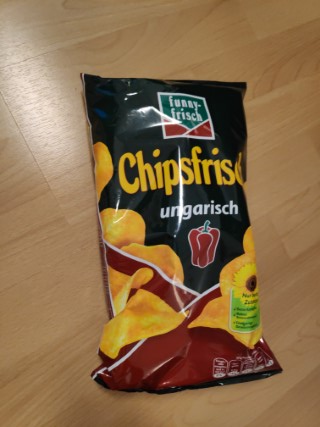chipsfrisch: (79, 71, 285, 393)
